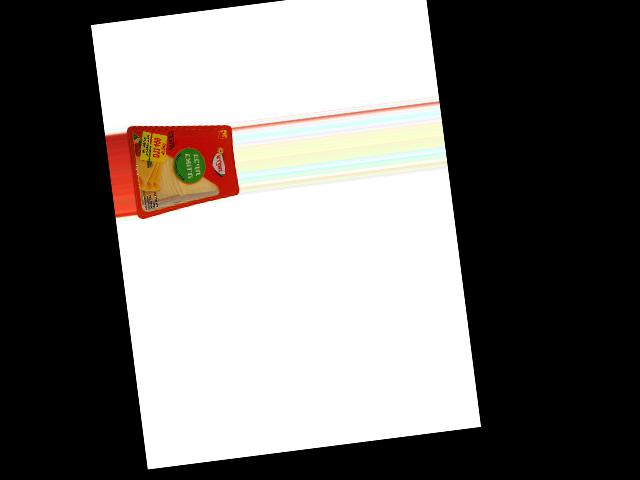cheese: (125, 113, 240, 219)
